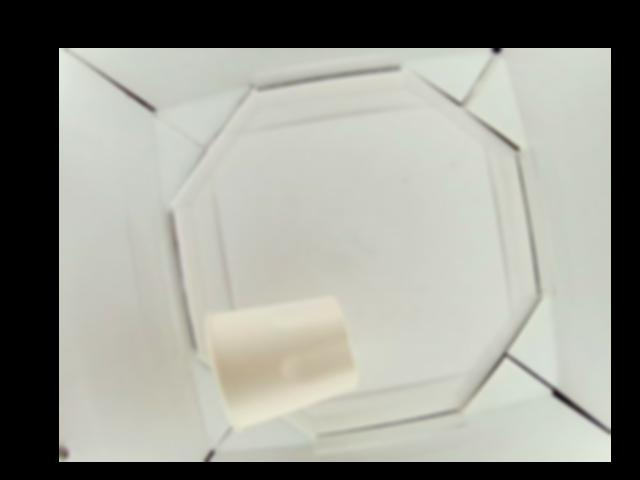Cup: (203, 298, 361, 425)
